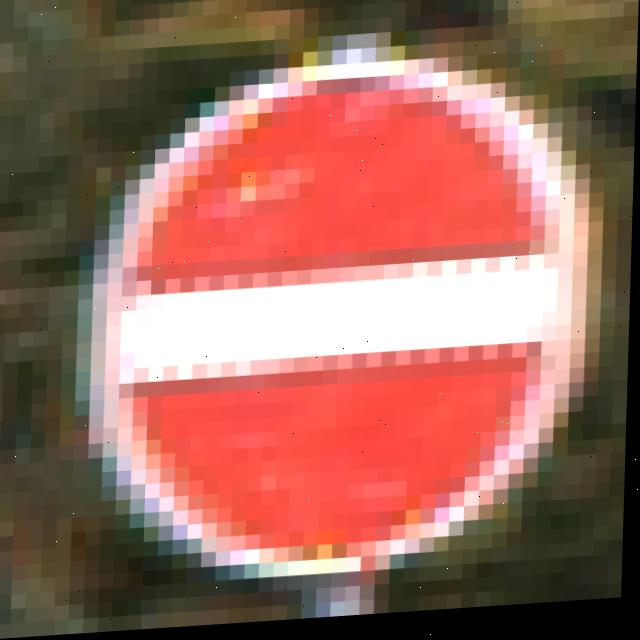road_rough: (101, 33, 584, 556)
